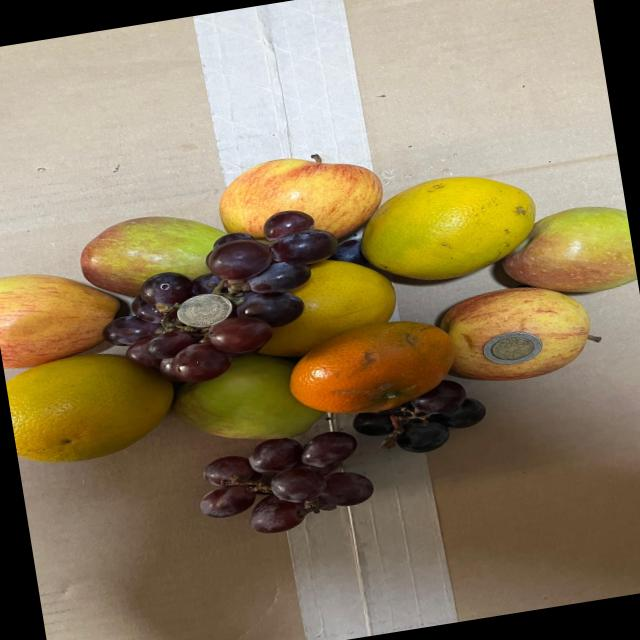moneda: (475, 322, 555, 374), (170, 290, 242, 332)
